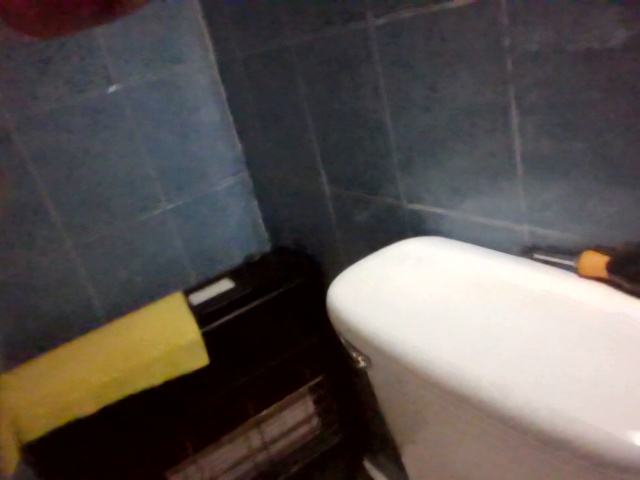destornillador: (531, 248, 640, 298)
